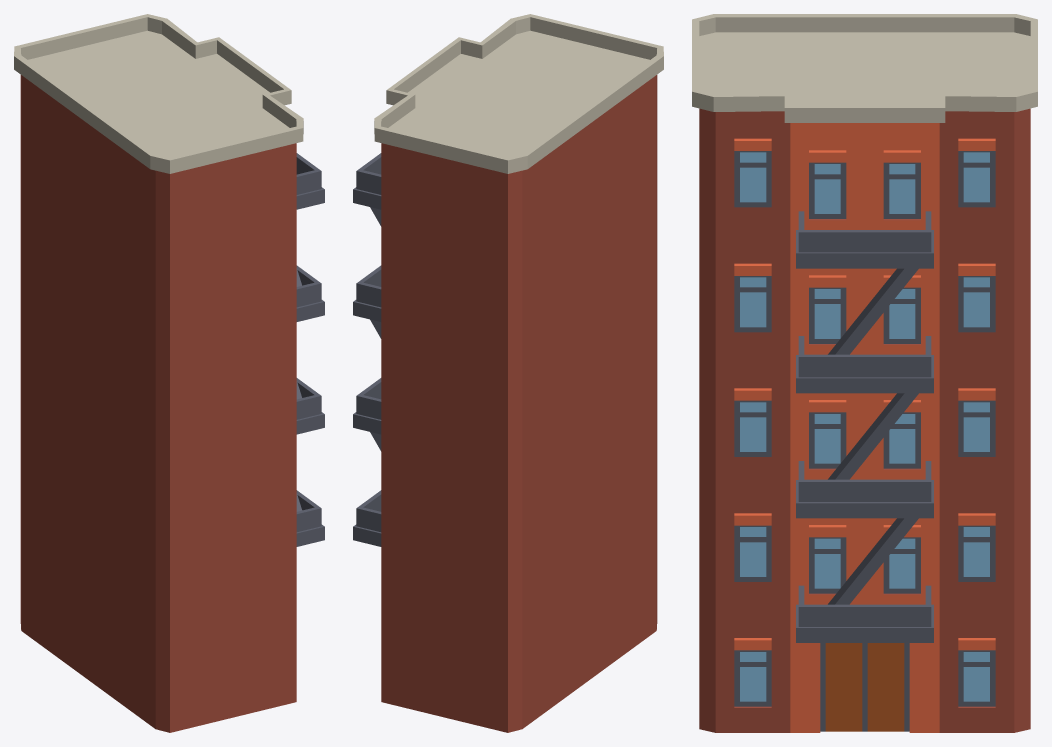
The picture shows the model from 3 angles, left to right: view 1: azimuth 30°, elevation 25°; view 2: azimuth 150°, elevation 25°; view 3: azimuth 270°, elevation 25°; orthographic projection. The views are drawn at different scales.
Parts seen in each view (by area): view 1: Predio 7; view 2: Predio 7; view 3: Predio 7.
Boxes of the visible parts, left/top/right/bottom form: Predio 7: left=14, top=14, right=324, bottom=732; Predio 7: left=353, top=14, right=663, bottom=732; Predio 7: left=692, top=14, right=1037, bottom=732.
Size of the model in its own units: 4912 by 12764 by 6258.
